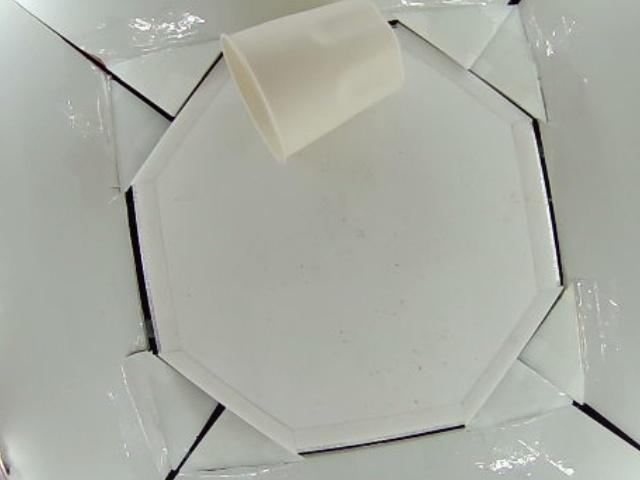Cup: (218, 1, 407, 161)
